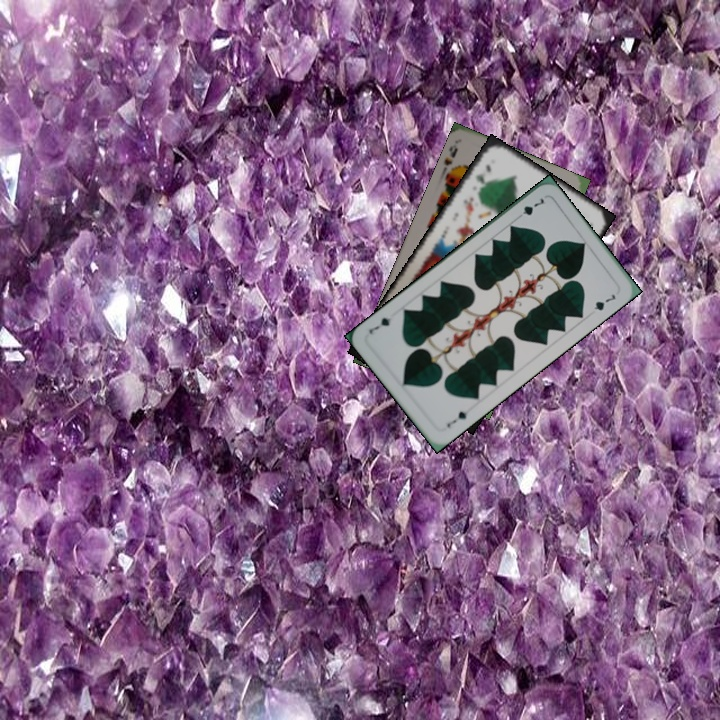G7: (513, 194, 547, 222), (443, 407, 470, 431)
GK: (472, 160, 494, 187)
S9: (437, 140, 461, 179)
